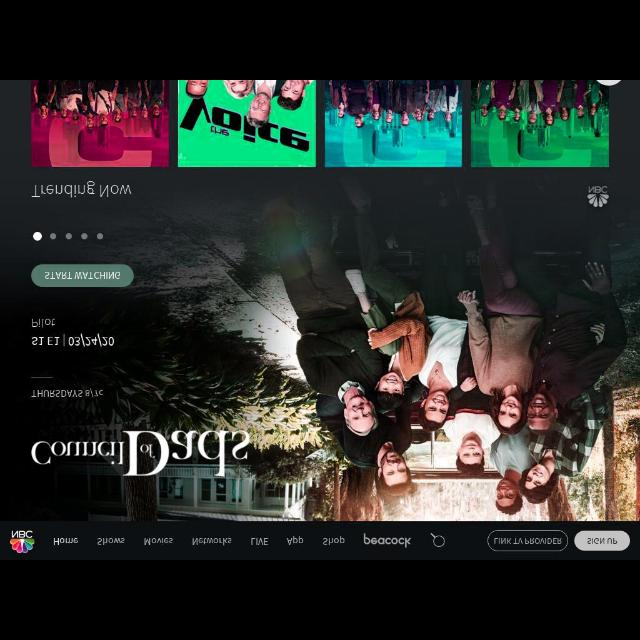backgroundimage: (1, 170, 640, 522)
icon: (587, 186, 609, 208), (430, 532, 446, 548)
image: (178, 81, 316, 167), (324, 81, 462, 167), (471, 81, 609, 167), (32, 81, 168, 167), (363, 532, 412, 548), (10, 530, 34, 554)
pageindicator: (34, 232, 104, 240)
text: (30, 182, 132, 198), (31, 333, 115, 347), (32, 387, 104, 397), (46, 271, 120, 279), (494, 537, 562, 545), (192, 537, 232, 545), (32, 317, 56, 328), (144, 537, 174, 545), (97, 538, 125, 546), (323, 536, 345, 546), (54, 538, 78, 546), (586, 538, 618, 544), (286, 536, 304, 546), (250, 538, 270, 546)
textbutton: (30, 264, 134, 286), (488, 530, 568, 552), (575, 530, 631, 550)
toolbar: (1, 522, 640, 558)
